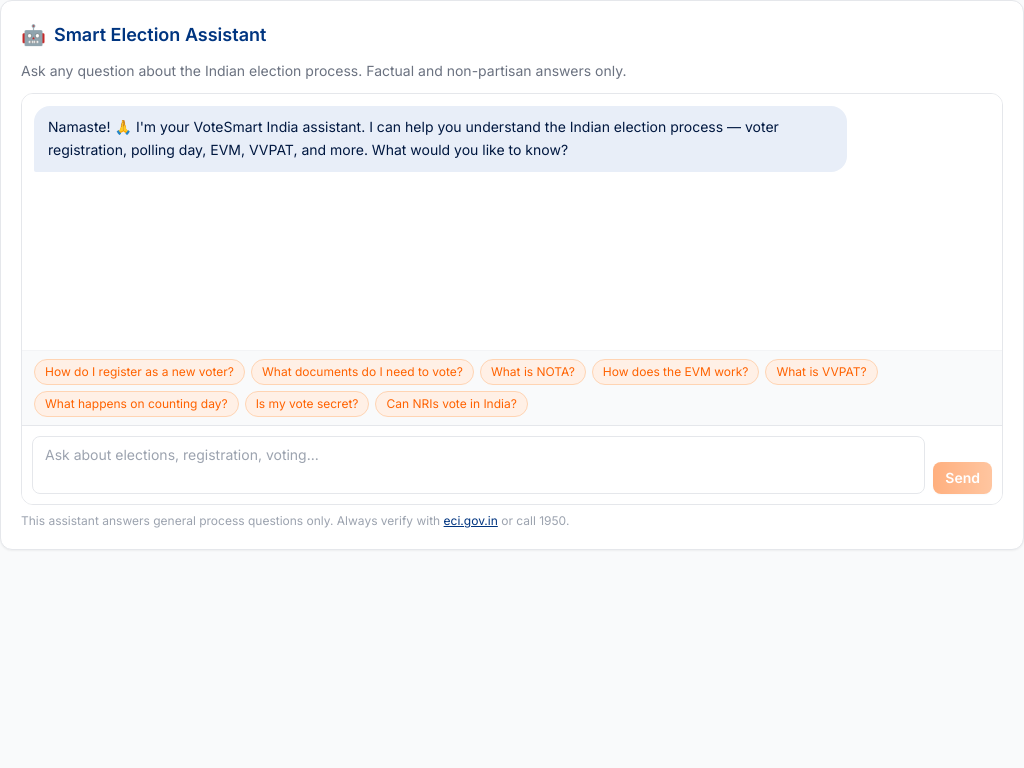
AssistantChat › enables Send button when input has text
Type "hello" into the text box with placeholder "Ask about elections, registration, voting..." at [479, 465], box x1=32 y1=436 x2=925 y2=494
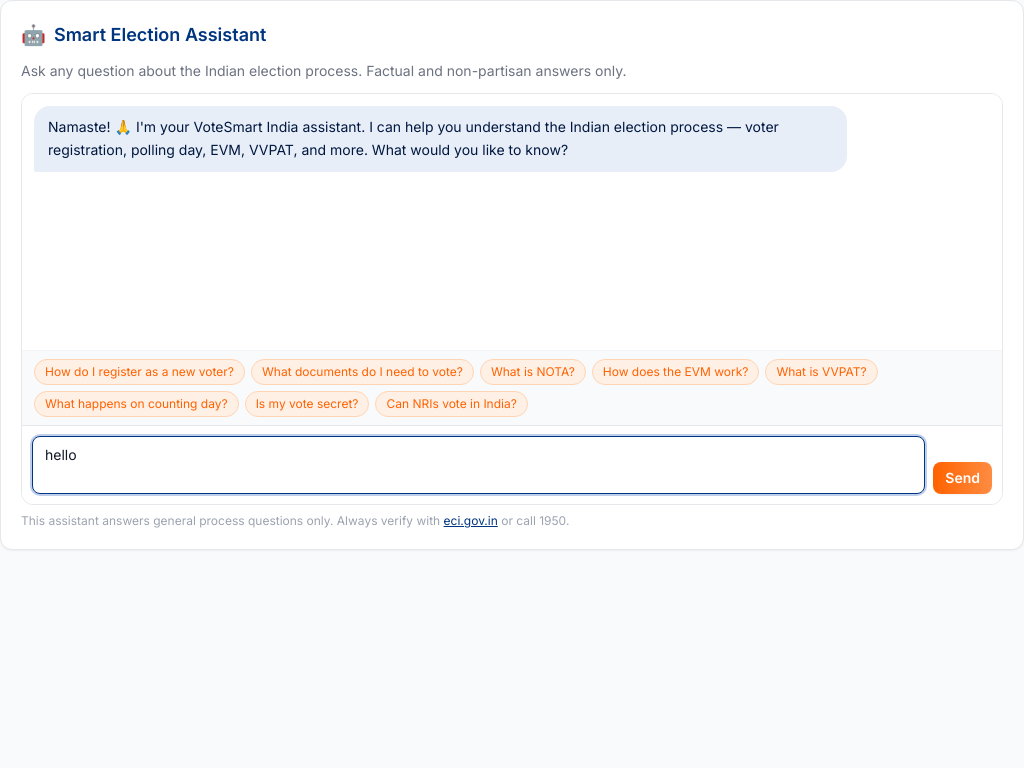
Check: the button with aria-label "send message" is enabled, box x1=933 y1=462 x2=992 y2=494
